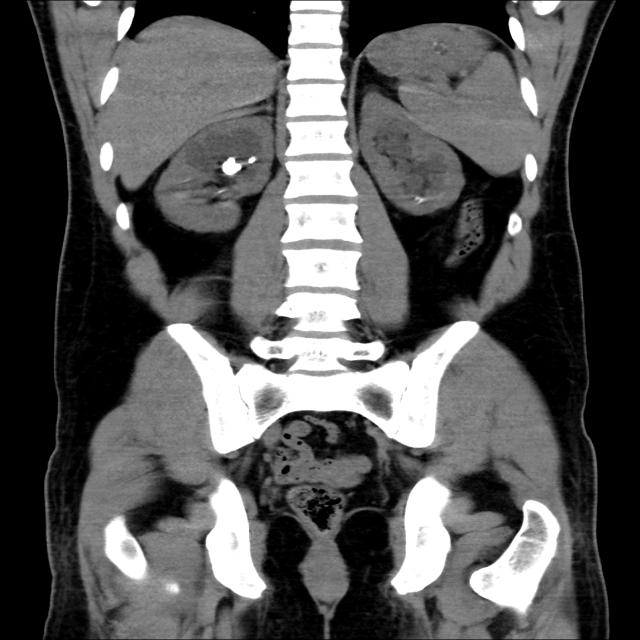kidneystone: (221, 156, 242, 176), (247, 156, 258, 163)
